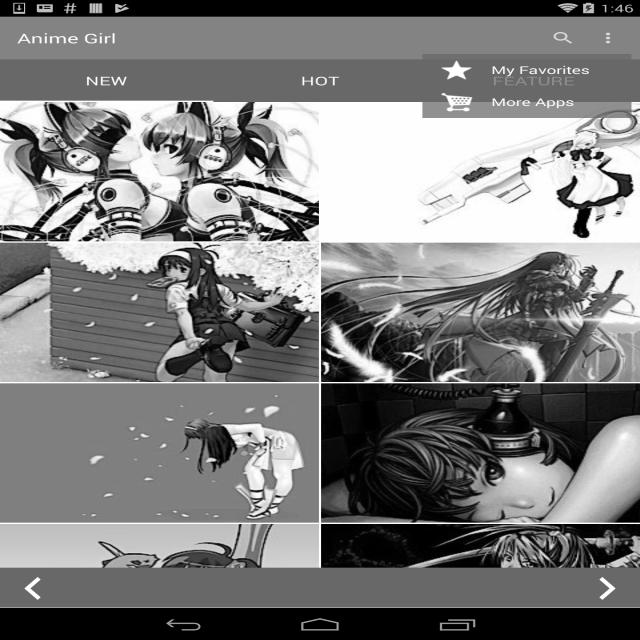ImageButton: (434, 88, 481, 117), (436, 59, 474, 84), (544, 26, 582, 50), (591, 22, 622, 48)
ImageView: (0, 102, 313, 238), (1, 246, 315, 376), (326, 247, 632, 380), (320, 388, 633, 518), (3, 388, 313, 519), (321, 123, 634, 234), (1, 524, 315, 562), (325, 528, 631, 565)
TextView: (12, 24, 126, 51), (293, 71, 349, 91), (81, 71, 137, 89)
